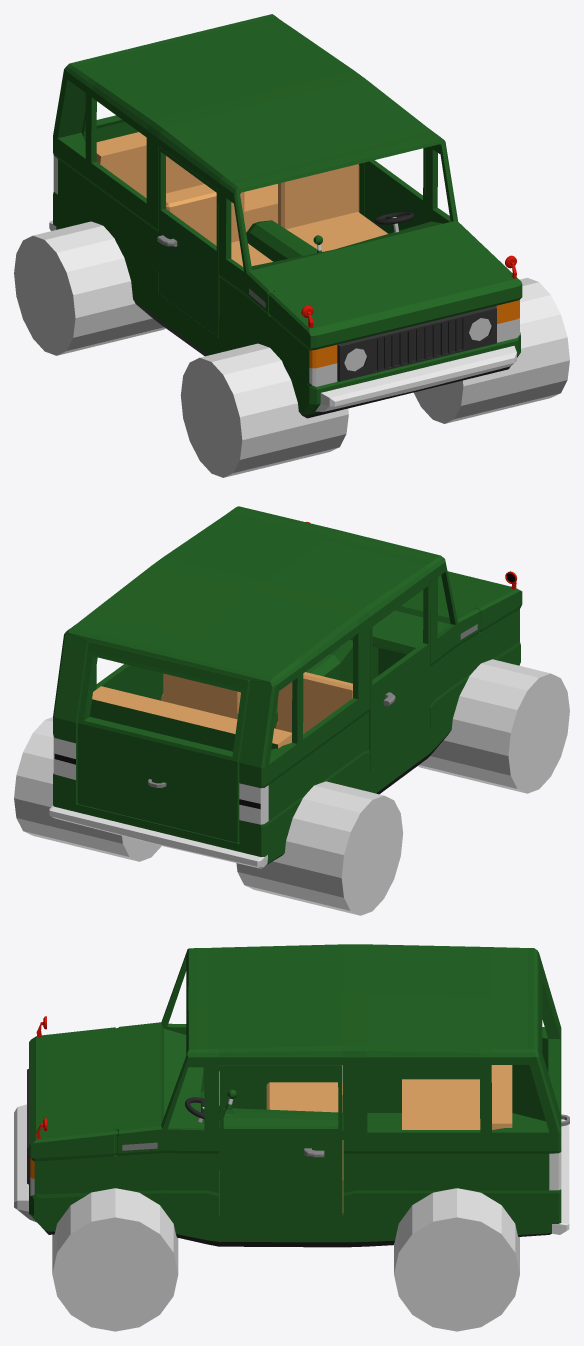
File: FinalCar2.fbx
The picture shows the model from 3 angles, top to bottom: view 1: azimuth 30°, elevation 25°; view 2: azimuth 150°, elevation 25°; view 3: azimuth 270°, elevation 25°; orthographic projection. The views are drawn at different scales.
Parts seen in each view (by area): view 1: Car, DoorGapRight, DoorGapLeft, DoorRight, DoorLeft, Trunk; view 2: Car, DoorGapRight, Trunk, DoorRight, DoorGapLeft; view 3: Car, DoorGapLeft, DoorLeft, DoorRight, Trunk.
Boxes of the visible parts, <box> form: Car: <box>49,14,522,418</box>; DoorGapRight: <box>14,221,348,477</box>; DoorGapLeft: <box>413,277,569,423</box>; DoorRight: <box>157,147,219,337</box>; DoorLeft: <box>365,147,425,233</box>; Trunk: <box>81,110,138,142</box>; Car: <box>49,506,522,868</box>; DoorGapRight: <box>236,659,569,915</box>; Trunk: <box>77,641,250,842</box>; DoorRight: <box>369,580,430,771</box>; DoorGapLeft: <box>14,717,161,861</box>; Car: <box>14,944,569,1247</box>; DoorGapLeft: <box>52,1188,519,1331</box>; DoorLeft: <box>219,1065,342,1215</box>; DoorRight: <box>223,1065,342,1109</box>; Trunk: <box>539,966,569,1126</box>.
Bounding box in the file's own units: 326 × 237 × 468.
